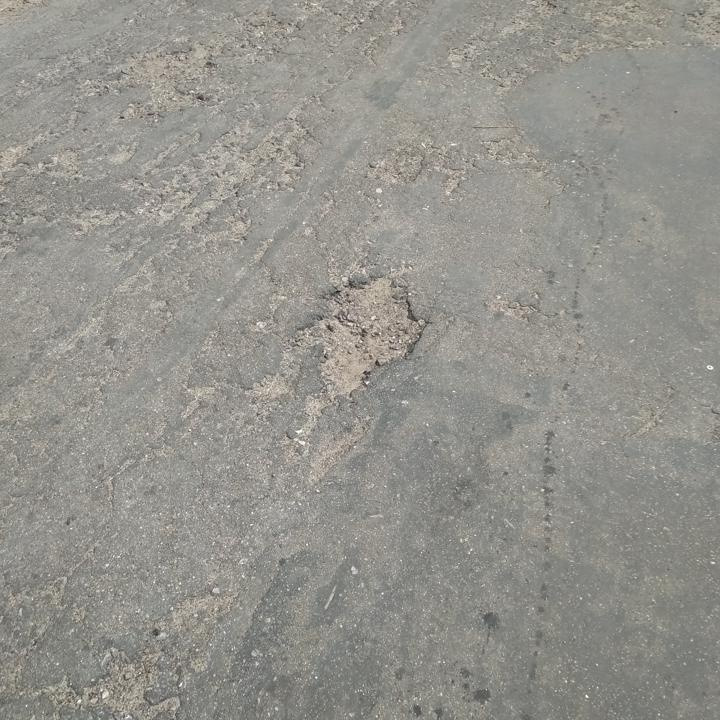pothole: (289, 272, 421, 397), (124, 40, 214, 120)
